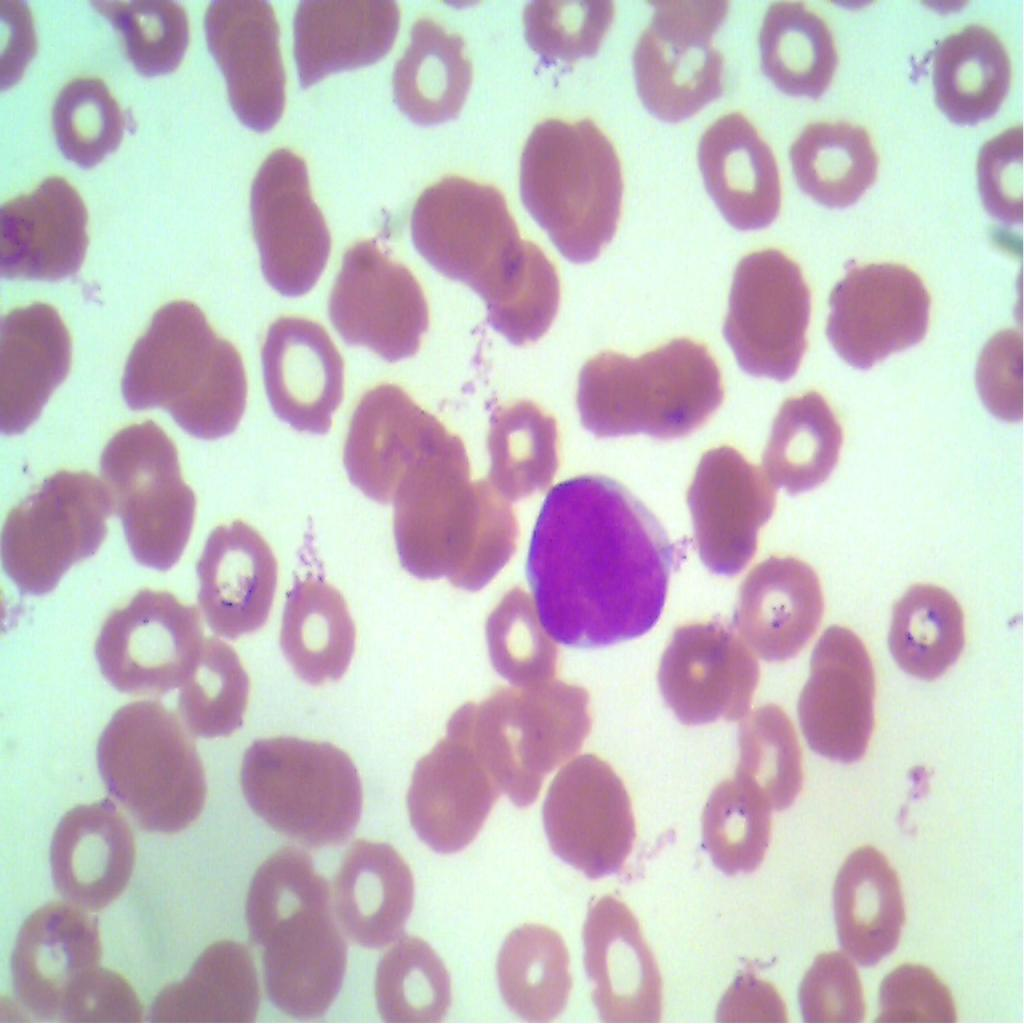Eritrosit: (515, 114, 633, 266), (234, 714, 366, 844), (93, 695, 208, 834), (239, 139, 331, 291), (790, 616, 881, 762), (326, 232, 428, 360), (538, 761, 646, 881), (469, 225, 566, 354), (726, 242, 812, 381), (658, 621, 761, 737), (254, 305, 344, 437), (386, 21, 484, 141), (9, 900, 104, 1023), (686, 445, 776, 574), (829, 254, 931, 367), (240, 837, 330, 962), (430, 478, 522, 600), (830, 844, 914, 975), (386, 445, 470, 574), (581, 888, 661, 1023), (52, 787, 138, 912), (726, 552, 824, 660), (920, 24, 1018, 131), (358, 930, 469, 1023), (408, 734, 496, 851), (0, 174, 91, 287), (698, 112, 784, 231), (98, 588, 198, 690), (274, 574, 360, 691), (409, 172, 501, 277), (331, 831, 413, 948), (261, 911, 350, 1018), (198, 520, 278, 639), (789, 115, 883, 216), (502, 657, 595, 758), (121, 470, 210, 575), (761, 385, 844, 497), (639, 332, 729, 435), (478, 580, 560, 692), (218, 17, 293, 139), (472, 698, 554, 808), (169, 334, 248, 448), (728, 701, 809, 812), (631, 34, 723, 131), (756, 0, 846, 98), (174, 642, 259, 745), (339, 388, 428, 486), (566, 338, 652, 437), (482, 395, 563, 500), (118, 298, 206, 394), (48, 70, 131, 171), (484, 918, 568, 1016), (699, 774, 774, 878), (0, 292, 76, 394), (6, 495, 70, 611), (888, 584, 966, 675), (38, 462, 110, 557), (795, 941, 871, 1023), (116, 0, 194, 79), (98, 421, 173, 498)
Limfoblast: (526, 472, 676, 658)
